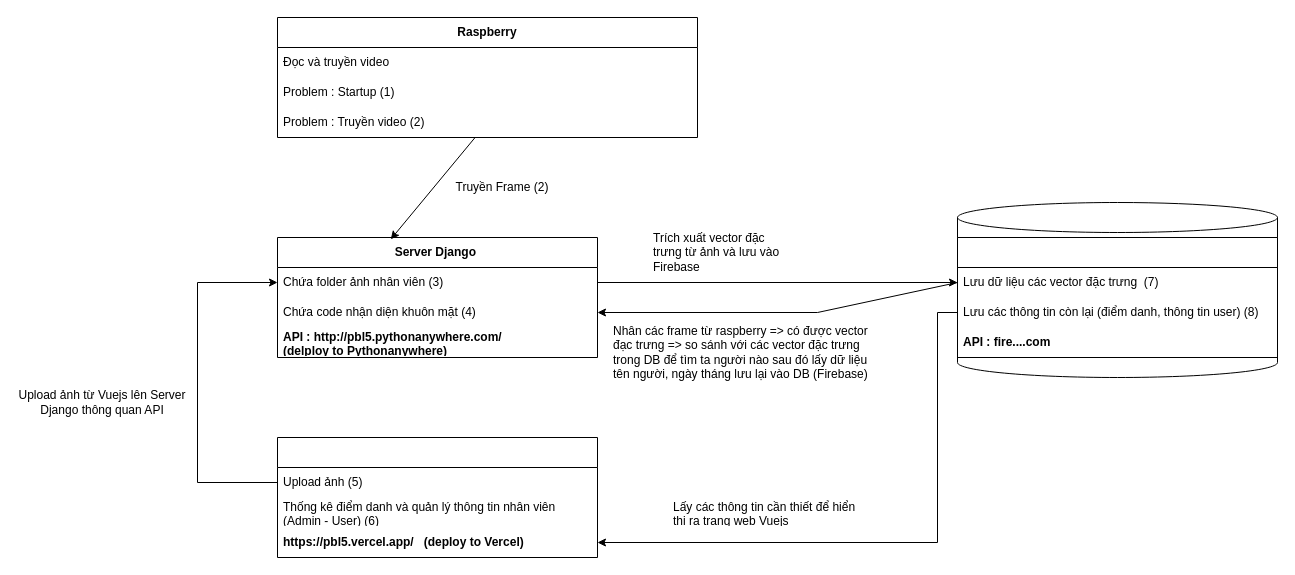
Some shapes in this 1295 by 575 pixel diagram are drawn without their labels. The shapes that lost their labels are listed below. From the top down, each one's box as (x1, y1, x2, y2) in pixels, then its label:
(956, 236, 1278, 358): Firebase
(276, 436, 598, 558): Client Vuejs
